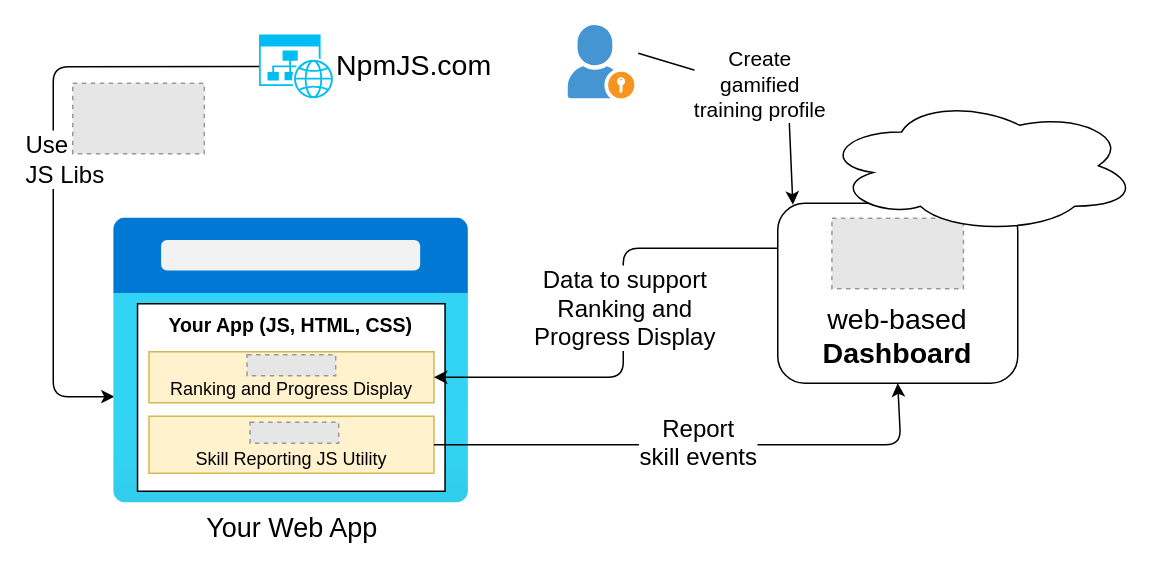
Some shapes in this 1164 by 573 pixel diagram are drawn without their labels. Grey dashed boxes stand in for pictures. Here are the shapes that lost their labels. From the top down, the centre of each, then its label:
At point (600, 61): "Your App Team".
At point (979, 165): "self hosted OR provided by your org OR public offering".
